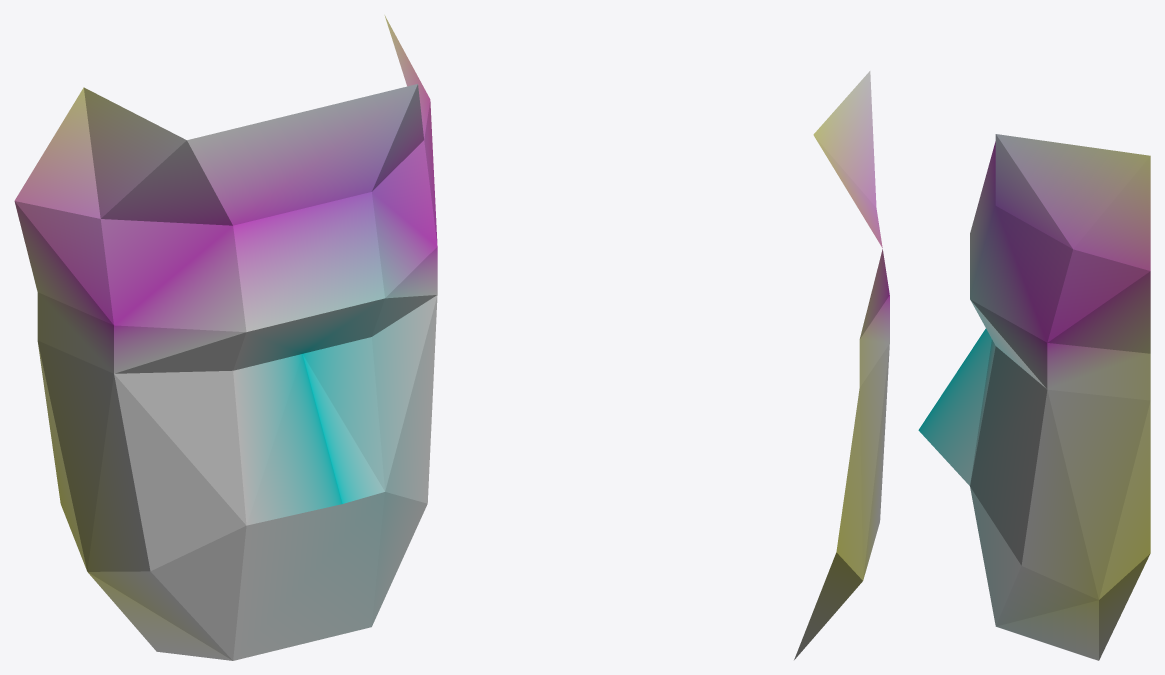
The picture shows the model from 3 angles, left to right: view 1: azimuth 30°, elevation 25°; view 2: azimuth 150°, elevation 25°; view 3: azimuth 270°, elevation 25°; orthographic projection. The views are drawn at different scales.
Visible parts, largest first — view 1: model_13F7; view 2: model_13F7; view 3: model_13F7.
Boxes of the visible parts, x1,y1,x2,y2 form: model_13F7: (14, 15, 437, 660); model_13F7: (794, 71, 889, 659); model_13F7: (918, 134, 1150, 660).
Size of the model in its own units: 18 by 23 by 9.
